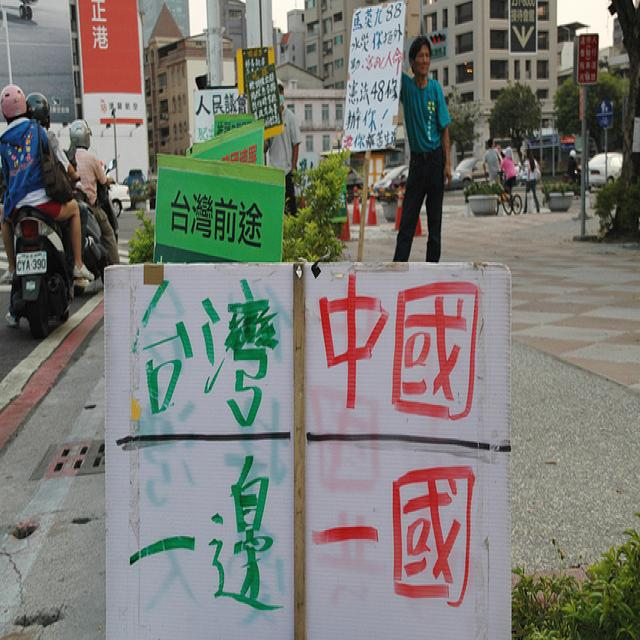motor: (13, 206, 91, 341), (73, 187, 109, 285)
